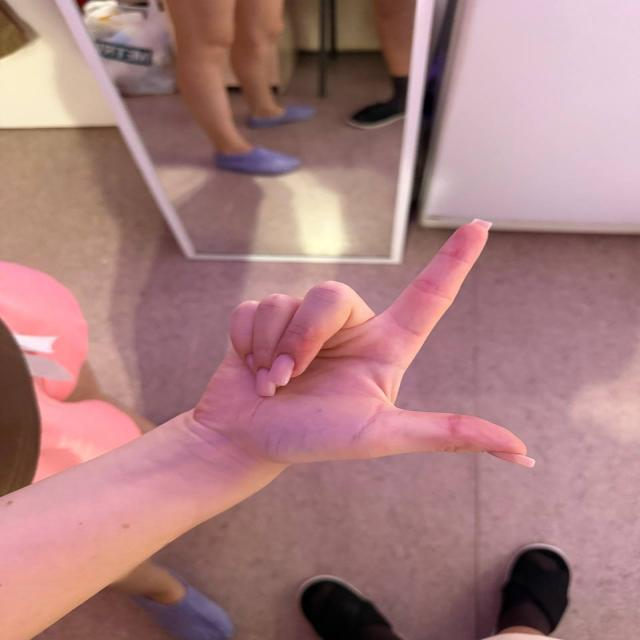g: (213, 216, 540, 476)
